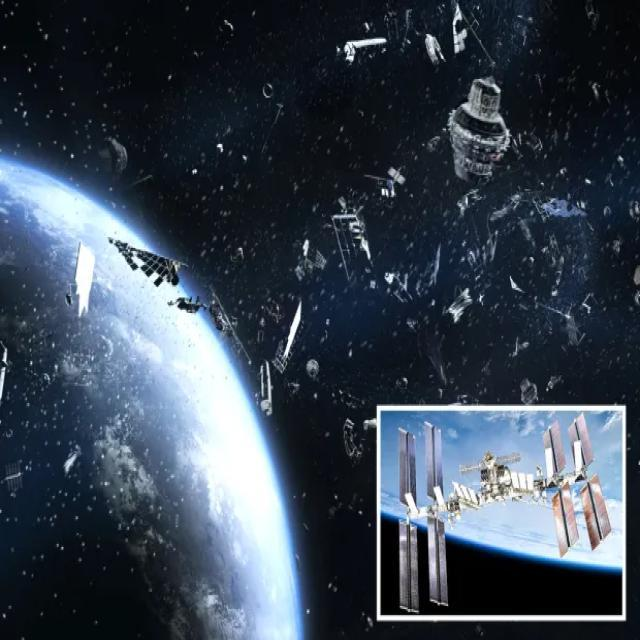large_debris: (441, 61, 518, 197), (321, 193, 381, 299), (256, 287, 312, 389), (113, 226, 191, 298), (330, 7, 418, 70), (447, 0, 471, 58)
